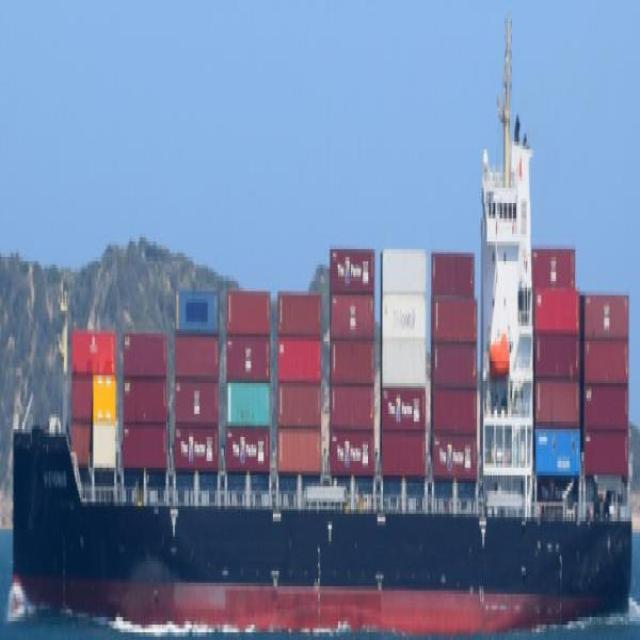Container Ship: (4, 0, 639, 640)
